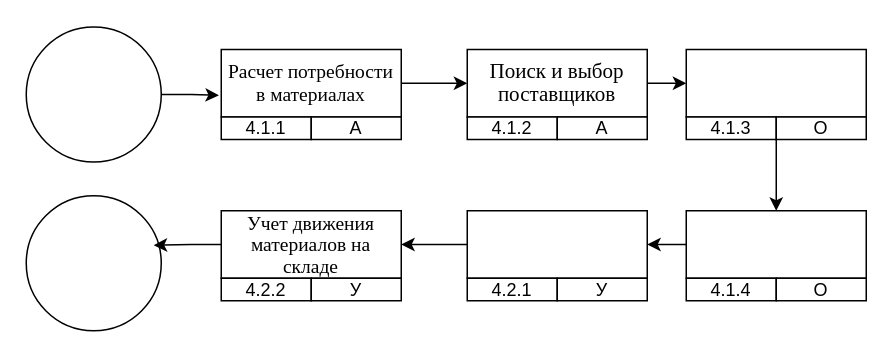
Image size: 893x357. Some labels were removed from this diagram. The centre of each missing label's shape, as x and y in pixels:
"Заключение договоров на поставку" belongs at pixel 775 243.
"Приемка материалов на склад" belongs at pixel 556 243.
"Проведение тендеров" belongs at pixel 775 82.
"Точка начала бизнес процесса" belongs at pixel 93 94.
"Точка окончания бизнес процесса" belongs at pixel 93 262.
